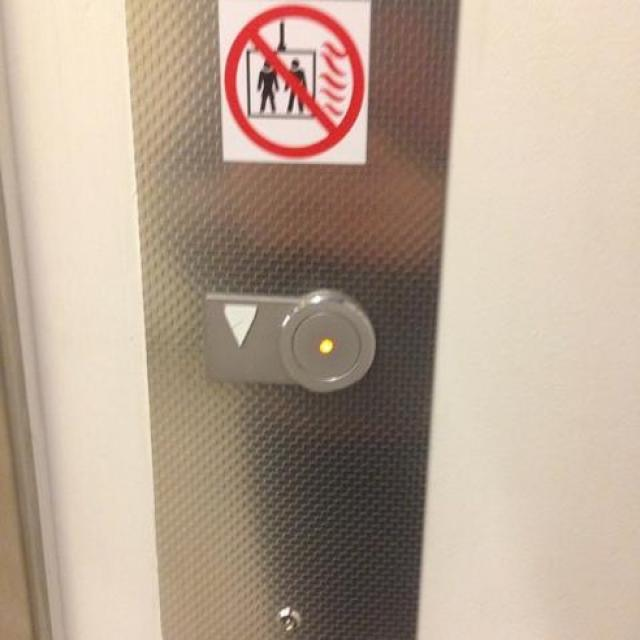down: (197, 282, 381, 394)
keyhole: (274, 606, 302, 630)
